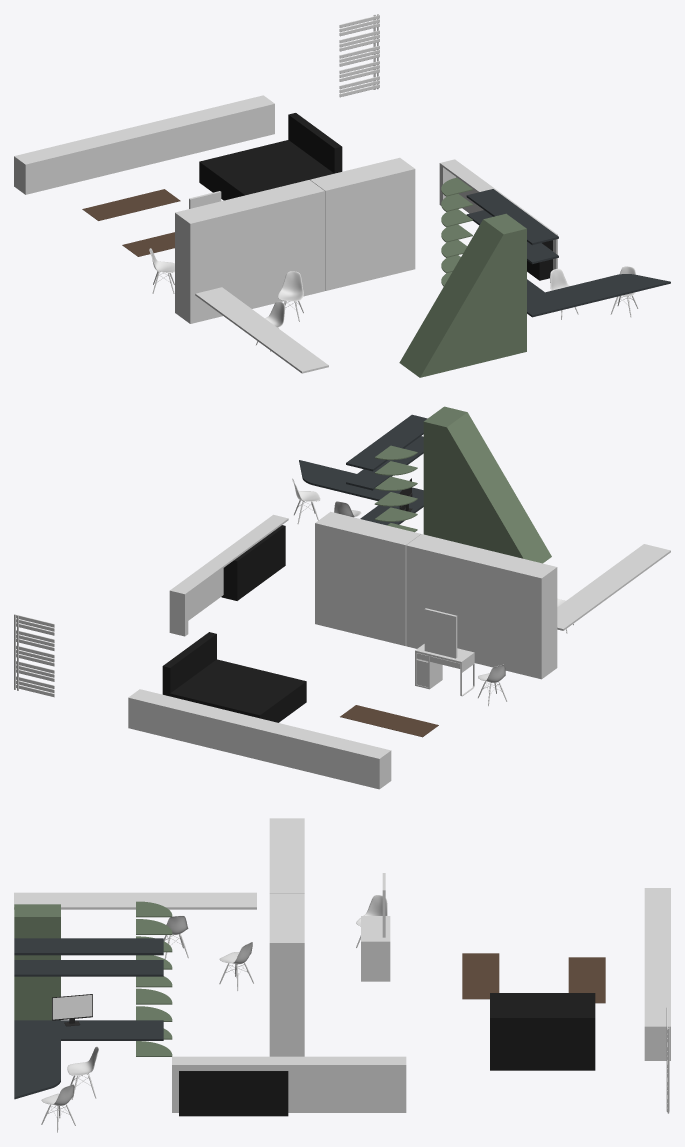
The model's file is OG_Möbel.gltf.
The picture shows the model from 3 angles, top to bottom: view 1: azimuth 30°, elevation 25°; view 2: azimuth 150°, elevation 25°; view 3: azimuth 270°, elevation 25°; orthographic projection. The views are drawn at different scales.
Parts seen in each view (by area): view 1: Curve.070, Curve.075, Curve.074, Kleiderschrank_202.001, Curve.071, Curve.067, Heizkörper.002, _Curve.012, Curve.068, _Curve.017, Curve.069, Curve.065 (+4 smaller); view 2: Curve.070, Curve.075, Curve.074, Kleiderschrank_202.001, Curve.071, Curve.069, Curve.067, Heizkörper.002, _Curve.012, _Curve.017, ID5.001, Curve.072 (+6 smaller); view 3: Curve.069, Curve.071, Kleiderschrank_202.001, Curve.074, Curve.067, Curve.075, _Curve.012, _Curve.014, Curve.070, _Curve.017, Curve.072, _Curve.015 (+10 smaller).
Part boxes in pixels (<box>): Curve.070: <box>175,180,324,323</box>; Curve.075: <box>399,213,526,377</box>; Curve.074: <box>14,95,274,194</box>; Kleiderschrank_202.001: <box>310,157,415,290</box>; Curve.071: <box>199,113,342,200</box>; Curve.067: <box>195,287,328,373</box>; Heizkörper.002: <box>339,14,379,97</box>; _Curve.012: <box>441,177,472,286</box>; Curve.068: <box>545,274,670,308</box>; _Curve.017: <box>466,189,558,244</box>; Curve.069: <box>439,159,557,269</box>; Curve.065: <box>82,189,180,220</box>; Curve.070: <box>406,534,557,679</box>; Curve.075: <box>423,406,551,563</box>; Curve.074: <box>128,689,391,789</box>; Kleiderschrank_202.001: <box>315,511,420,645</box>; Curve.071: <box>162,632,306,722</box>; Curve.069: <box>169,514,288,636</box>; Curve.067: <box>557,544,670,630</box>; Heizkörper.002: <box>14,614,54,697</box>; _Curve.012: <box>374,445,417,532</box>; _Curve.017: <box>346,414,427,471</box>; ID5.001: <box>415,644,474,696</box>; Curve.072: <box>221,543,261,600</box>; Curve.069: <box>172,1056,406,1112</box>; Curve.071: <box>490,993,595,1070</box>; Kleiderschrank_202.001: <box>269,893,304,1056</box>; Curve.074: <box>644,888,670,1060</box>; Curve.067: <box>14,892,256,909</box>; Curve.075: <box>14,904,60,1020</box>; _Curve.012: <box>136,901,172,1056</box>; _Curve.014: <box>14,1020,163,1040</box>; Curve.070: <box>269,818,304,893</box>; _Curve.017: <box>14,938,163,955</box>; Curve.072: <box>233,1071,288,1116</box>; _Curve.015: <box>14,960,163,976</box>.
Bounding box in the file's own units: 8.28 × 2.71 × 11.22.
Materials: 16 (1 with a texture image).
